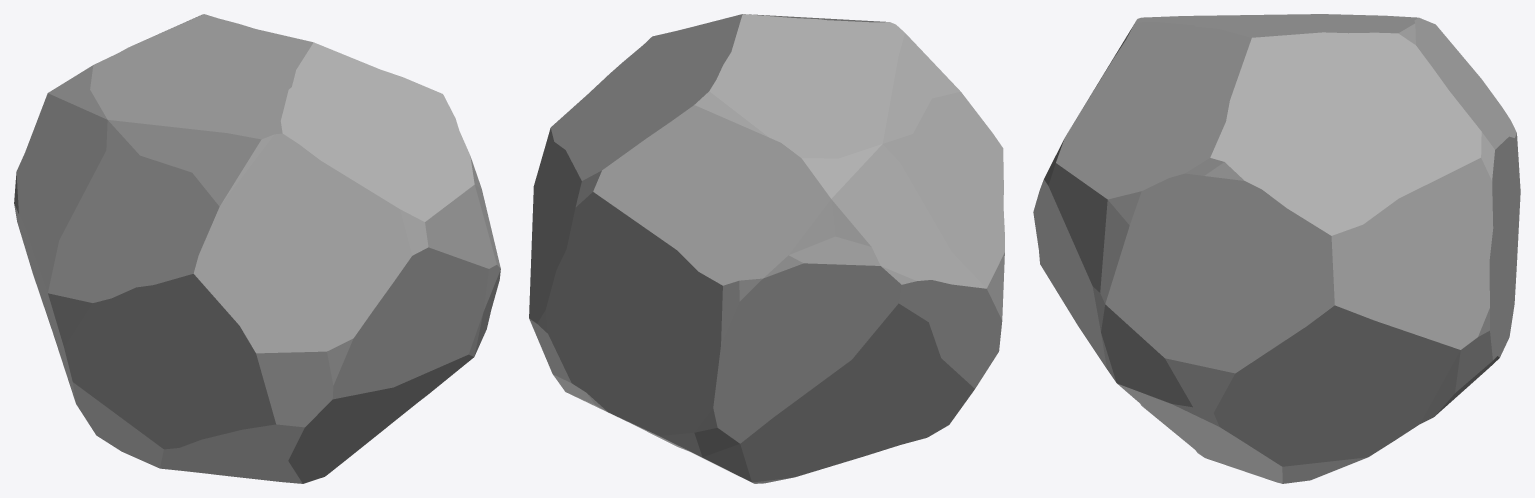
Rendered from rock_002.fbx.
3 views of the same model, side by side, from view 1: azimuth 30°, elevation 25°; view 2: azimuth 150°, elevation 25°; view 3: azimuth 270°, elevation 25° (orthographic). The views are drawn at different scales.
Visible parts, largest first — view 1: Rock_002_LOD0; view 2: Rock_002_LOD0; view 3: Rock_002_LOD0.
Boxes of the visible parts, <box> form: Rock_002_LOD0: <box>14,14,500,483</box>; Rock_002_LOD0: <box>529,14,1004,483</box>; Rock_002_LOD0: <box>1033,14,1520,483</box>.
Size of what is drawn, in the model's own units: 192 by 183 by 188.
